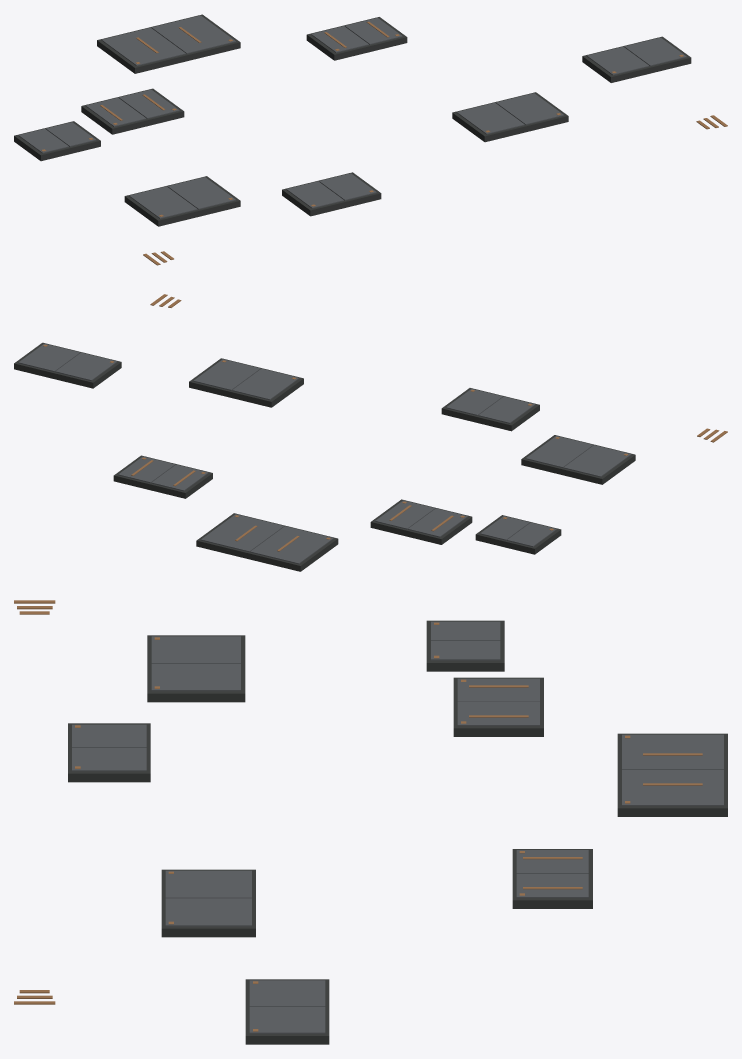
Rendered from R10-architecture.glb.
3 views of the same model, one above another, from view 1: azimuth 30°, elevation 25°; view 2: azimuth 150°, elevation 25°; view 3: azimuth 270°, elevation 25° (orthographic). The views are drawn at different scales.
Parts seen in each view (by area): view 1: Timing-wheel machine bed • seat 1, Timing-wheel machine bed • seat 2, Timing-wheel machine bed • bedding, Loom bedplate • seat 2, Loom bedplate • seat 1, Capability desk sill • seat 1, Capability desk sill • seat 2, Loom bedplate • bedding, Capability desk sill • bedding, Guard plate track • bedding, Sampler mounting bed • bedding, Recovery model feet • bedding (+12 smaller); view 2: Timing-wheel machine bed • seat 1, Timing-wheel machine bed • seat 2, Timing-wheel machine bed • bedding, Loom bedplate • seat 1, Loom bedplate • seat 2, Capability desk sill • seat 2, Capability desk sill • seat 1, Capability desk sill • bedding, Loom bedplate • bedding, Guard plate track • bedding, Sampler mounting bed • bedding, Guard plate track • seat 1 (+12 smaller); view 3: Timing-wheel machine bed • seat 1, Timing-wheel machine bed • seat 2, Loom bedplate • seat 2, Capability desk sill • seat 2, Capability desk sill • seat 1, Loom bedplate • seat 1, Timing-wheel machine bed • bedding, Guard plate track • seat 1, Guard plate track • seat 2, Sampler mounting bed • seat 2, Loom bedplate • bedding, Sampler mounting bed • seat 1 (+12 smaller).
Boxes of the visible parts, x1,y1,x2,y2 form: Timing-wheel machine bed • seat 1: (101,27,185,65); Timing-wheel machine bed • seat 2: (151,15,235,53); Timing-wheel machine bed • bedding: (97,14,240,73); Loom bedplate • seat 2: (167,177,235,209); Loom bedplate • seat 1: (129,186,197,218); Capability desk sill • seat 1: (456,102,524,134); Capability desk sill • seat 2: (496,93,563,124); Loom bedplate • bedding: (124,176,240,226); Capability desk sill • bedding: (452,92,568,142); Guard plate track • bedding: (582,36,691,82); Sampler mounting bed • bedding: (81,88,184,134); Recovery model feet • bedding: (306,17,407,60); Timing-wheel machine bed • seat 1: (250,526,333,563); Timing-wheel machine bed • seat 2: (201,514,284,551); Timing-wheel machine bed • bedding: (196,513,338,571); Loom bedplate • seat 1: (563,445,631,477); Loom bedplate • seat 2: (525,436,593,467); Capability desk sill • seat 2: (193,359,260,390); Capability desk sill • seat 1: (232,368,299,399); Capability desk sill • bedding: (189,358,303,407); Loom bedplate • bedding: (521,435,635,484); Guard plate track • bedding: (14,342,121,388); Sampler mounting bed • bedding: (370,499,472,544); Guard plate track • seat 1: (55,352,117,380); Timing-wheel machine bed • seat 1: (622,734,723,769); Timing-wheel machine bed • seat 2: (622,770,723,805); Loom bedplate • seat 2: (151,663,240,691); Capability desk sill • seat 2: (165,898,251,926); Capability desk sill • seat 1: (165,870,251,898); Loom bedplate • seat 1: (151,636,240,663); Timing-wheel machine bed • bedding: (617,733,727,816); Guard plate track • seat 1: (249,980,325,1006); Guard plate track • seat 2: (249,1007,325,1033); Sampler mounting bed • seat 2: (457,702,539,725); Loom bedplate • bedding: (147,635,245,702); Sampler mounting bed • seat 1: (457,678,539,701).
Bounding box in the file's own units: 12.39 × 0.1395 × 8.61.
